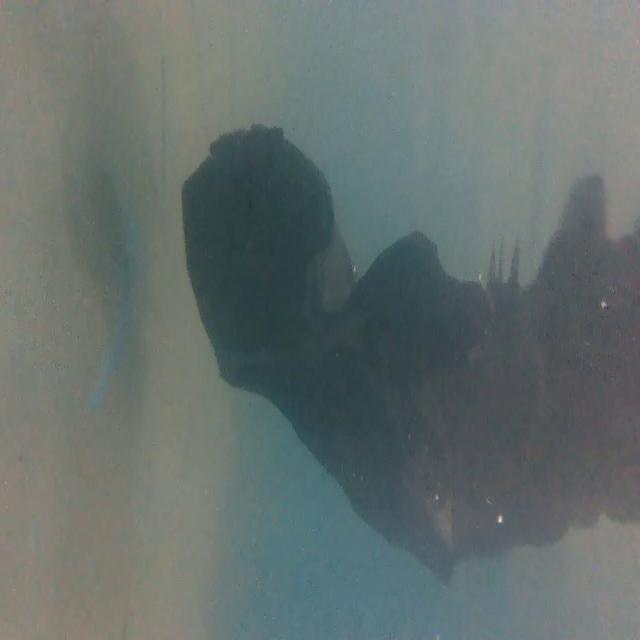plastic bags: (178, 101, 640, 570)
